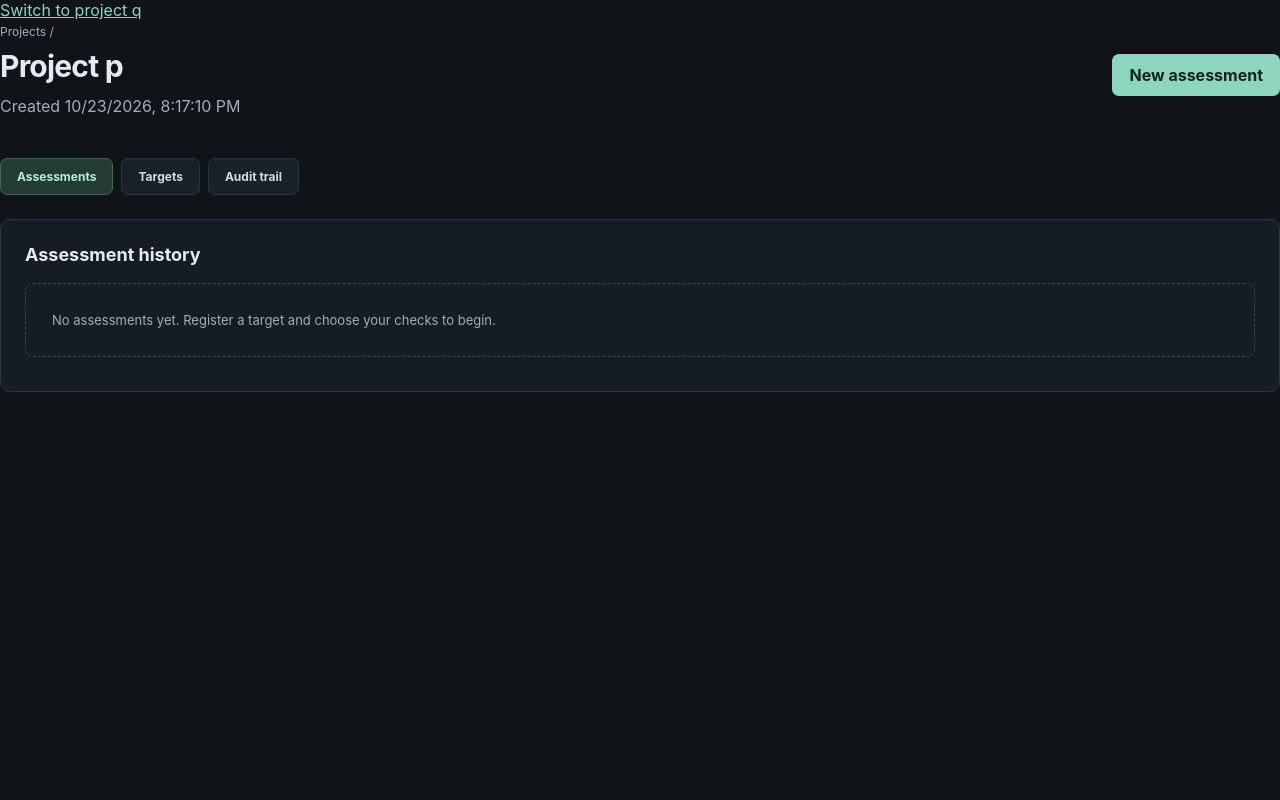
Test case: loads the next target page, disables duplicate requests, and hides exhausted pagination
Click the button "Targets". click: (161, 176)
box: [122,158,200,195]
(page scrolled)
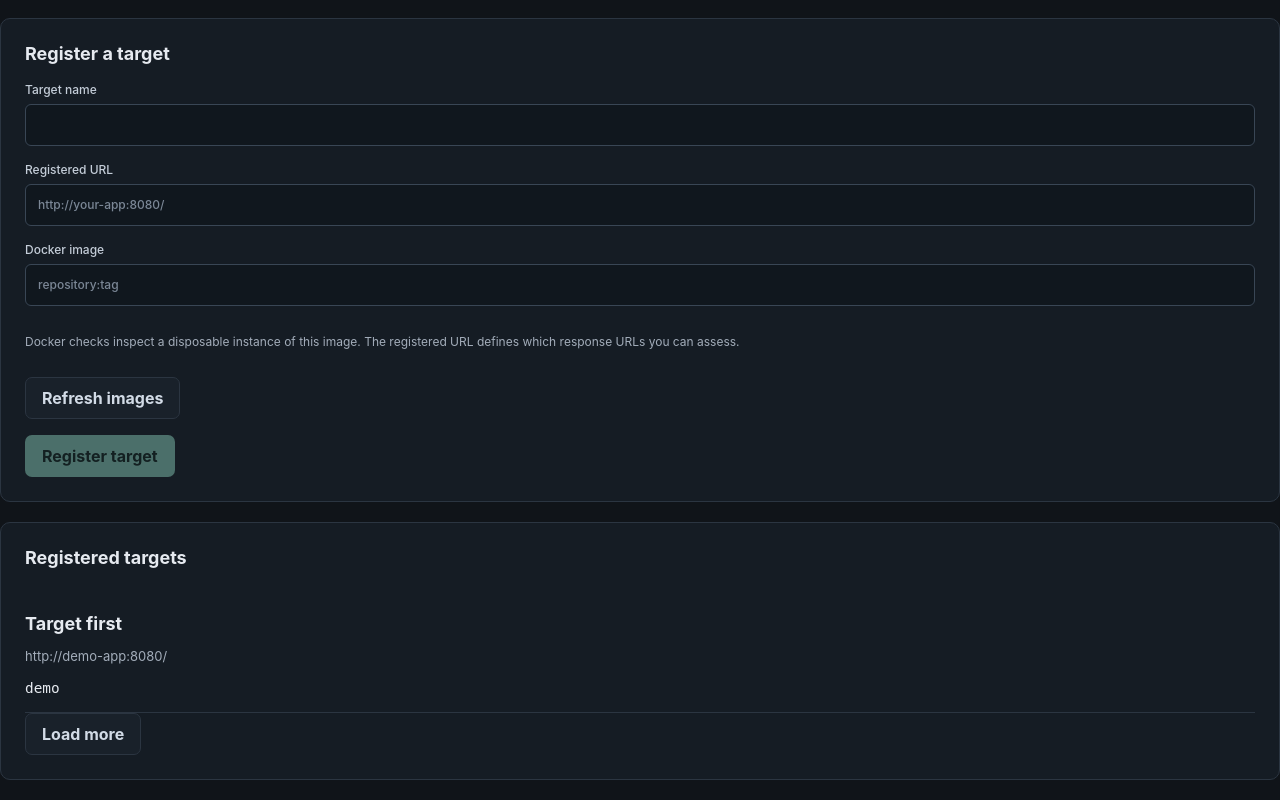
Expected: the heading "Target first" is shown, [25,613,122,634]
Click the button "Load more". click: (83, 734)
box: [25,713,141,755]
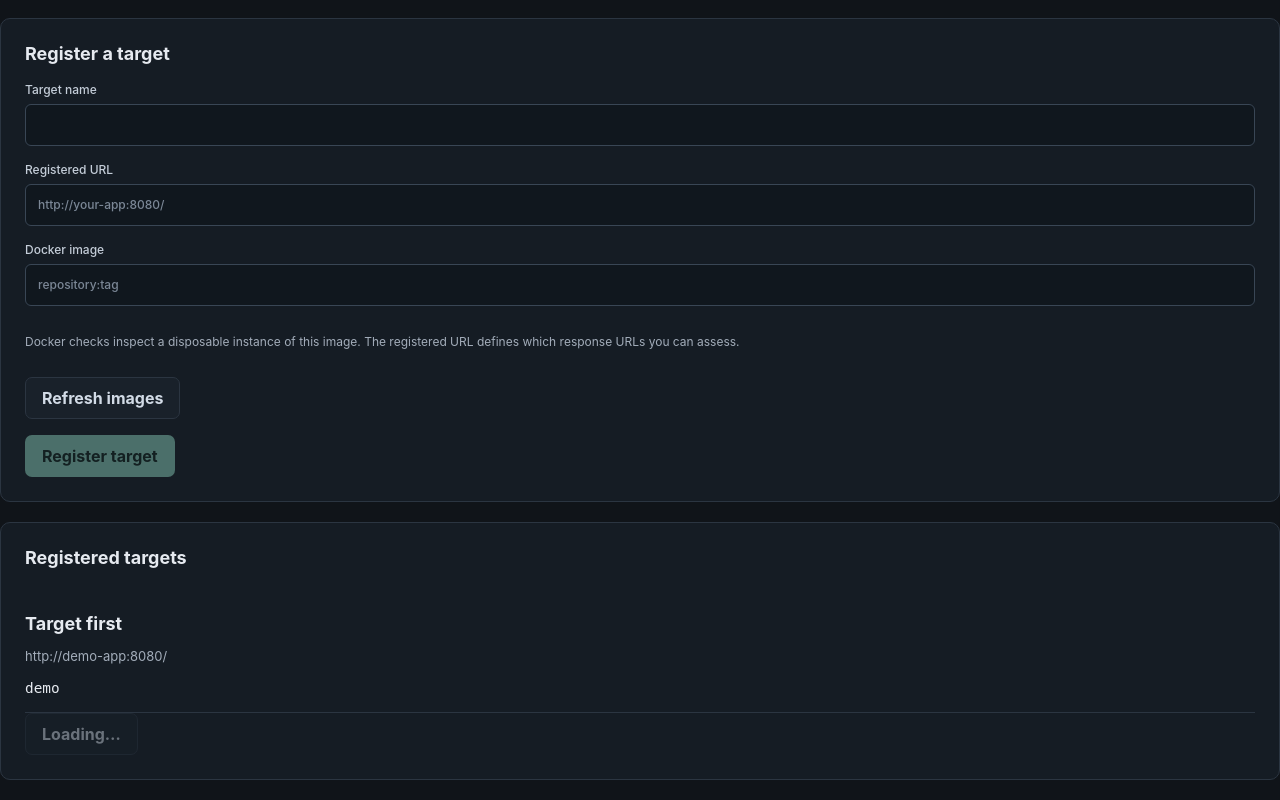
Expected: the button "Loading…" is disabled
Click the button "Loading…". click: (81, 734)
box: [25,713,138,755]
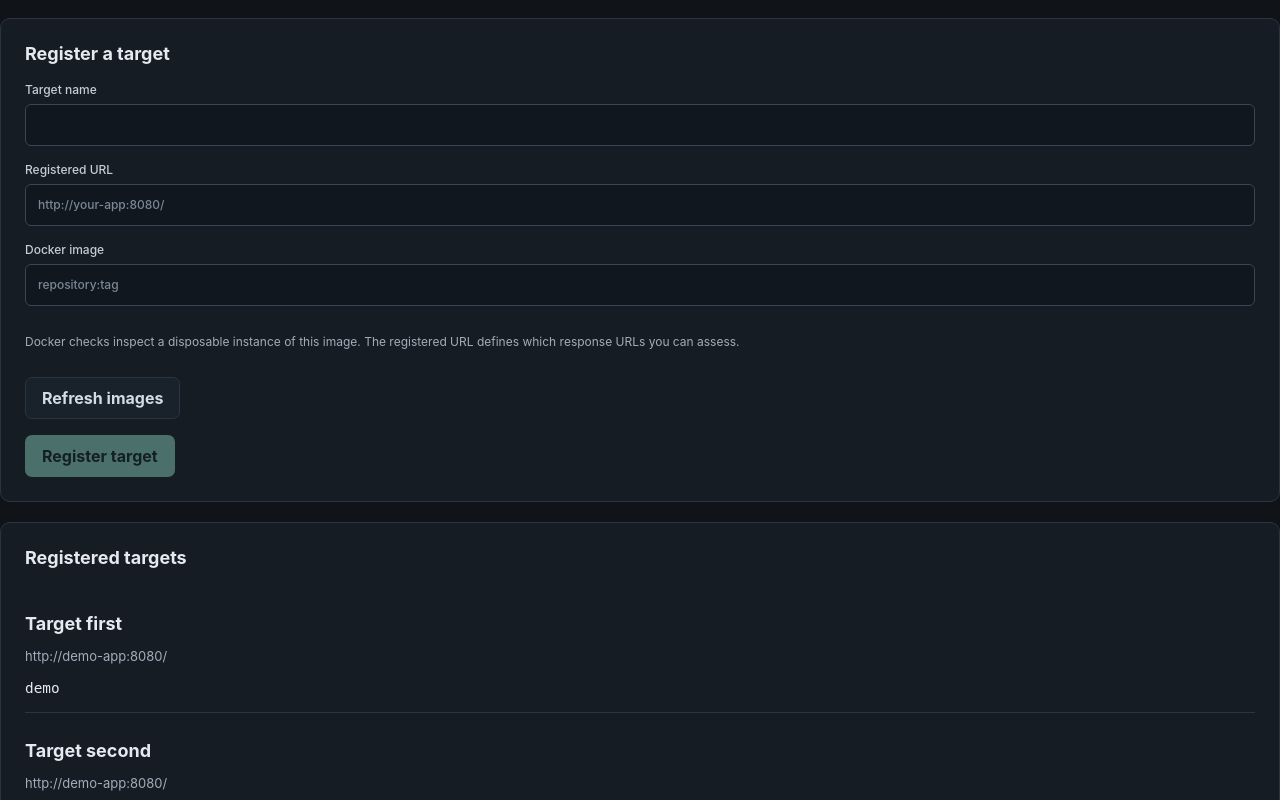
Expected: the heading "Target first" is shown, [25,613,122,634]
Expected: the heading "Target second" is shown, [25,740,151,761]
Expected: the button "Loading…" is gone
